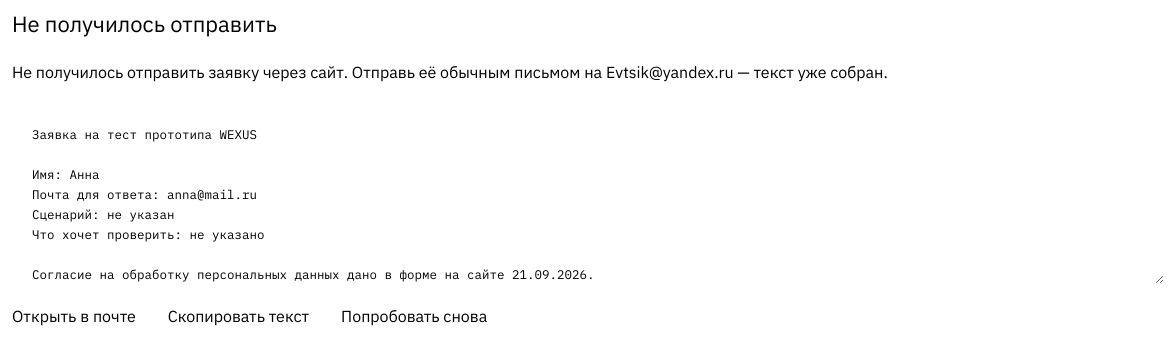
Test: RequestResult › копирование письма › Clipboard API скопировал — «Текст скопирован»
Click the button "Скопировать текст".
click(238, 316)  # box 168,304 -> 309,328
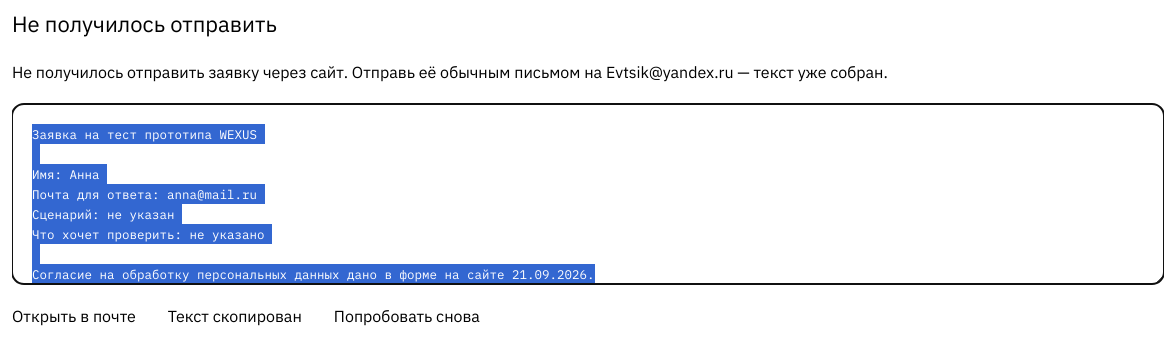
Expected: the button "Текст скопирован" is shown, 168,304 -> 302,328
